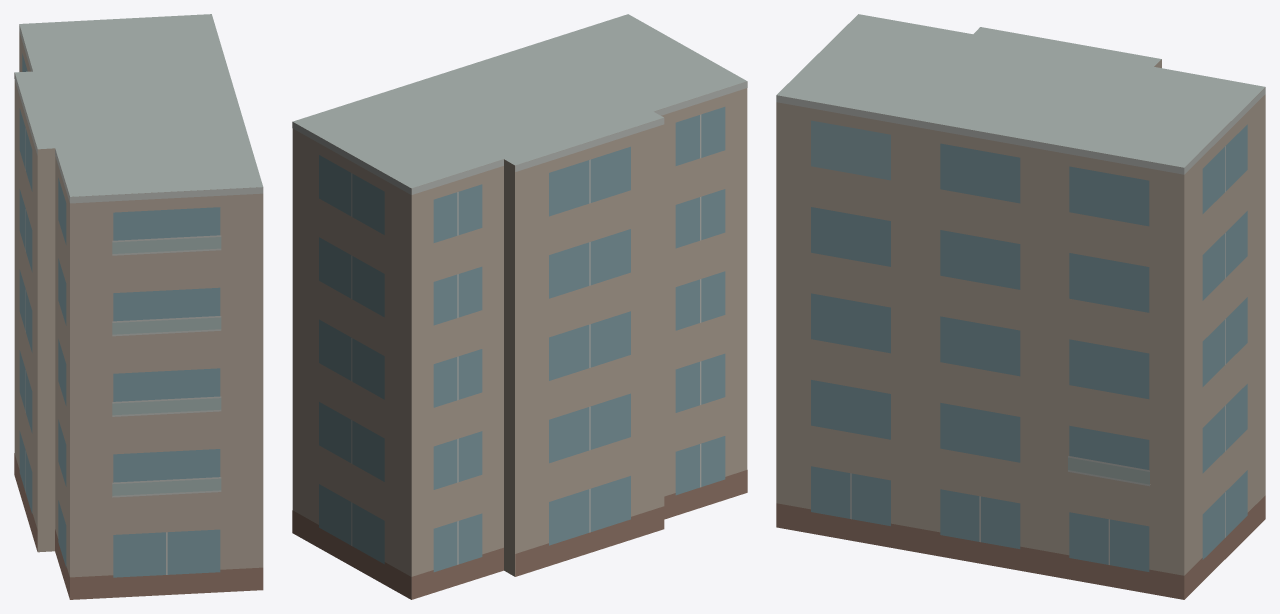
The model's file is survey-upis-32958137.glb.
The picture shows the model from 3 angles, left to right: view 1: azimuth 30°, elevation 25°; view 2: azimuth 150°, elevation 25°; view 3: azimuth 270°, elevation 25°; orthographic projection. The views are drawn at different scales.
Parts seen in each view (by area): view 1: survey-upis-32958137.tmp; view 2: survey-upis-32958137.tmp; view 3: survey-upis-32958137.tmp.
Part boxes in pixels (x1,y1,x2,y2): survey-upis-32958137.tmp: (14, 14, 263, 599); survey-upis-32958137.tmp: (292, 14, 747, 599); survey-upis-32958137.tmp: (776, 14, 1265, 599).
Size of the model in its own units: 11.45 by 15 by 15.4.
